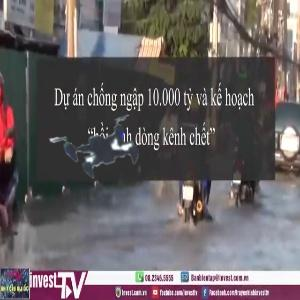drone: (33, 79, 175, 221)
